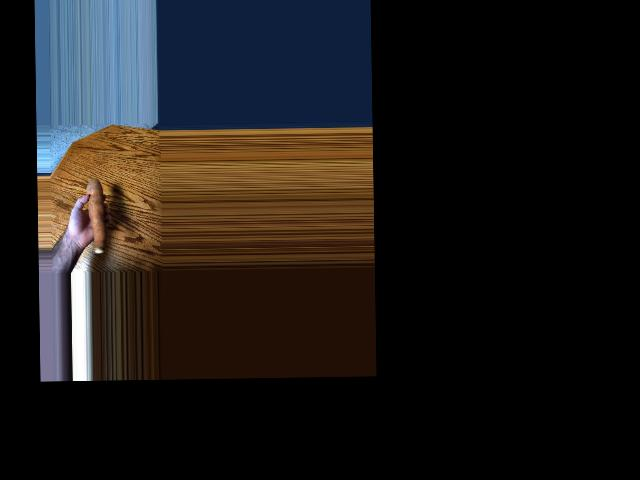sweet_potato: (90, 178, 110, 247)
